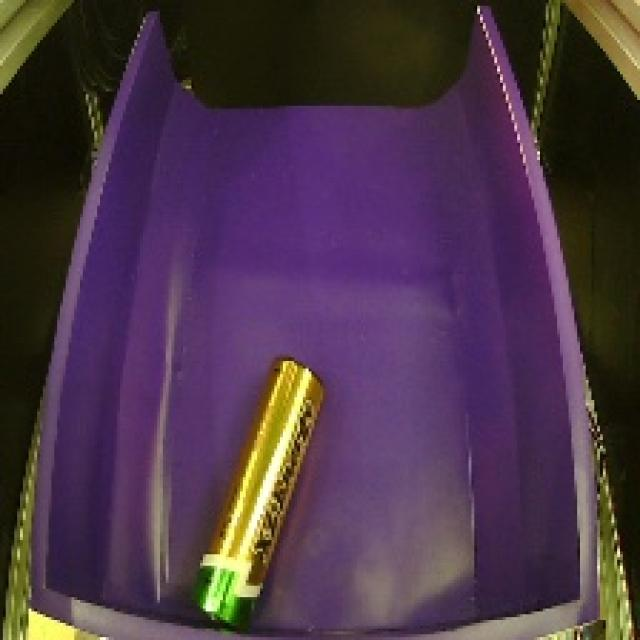battery: (176, 346, 336, 629)
